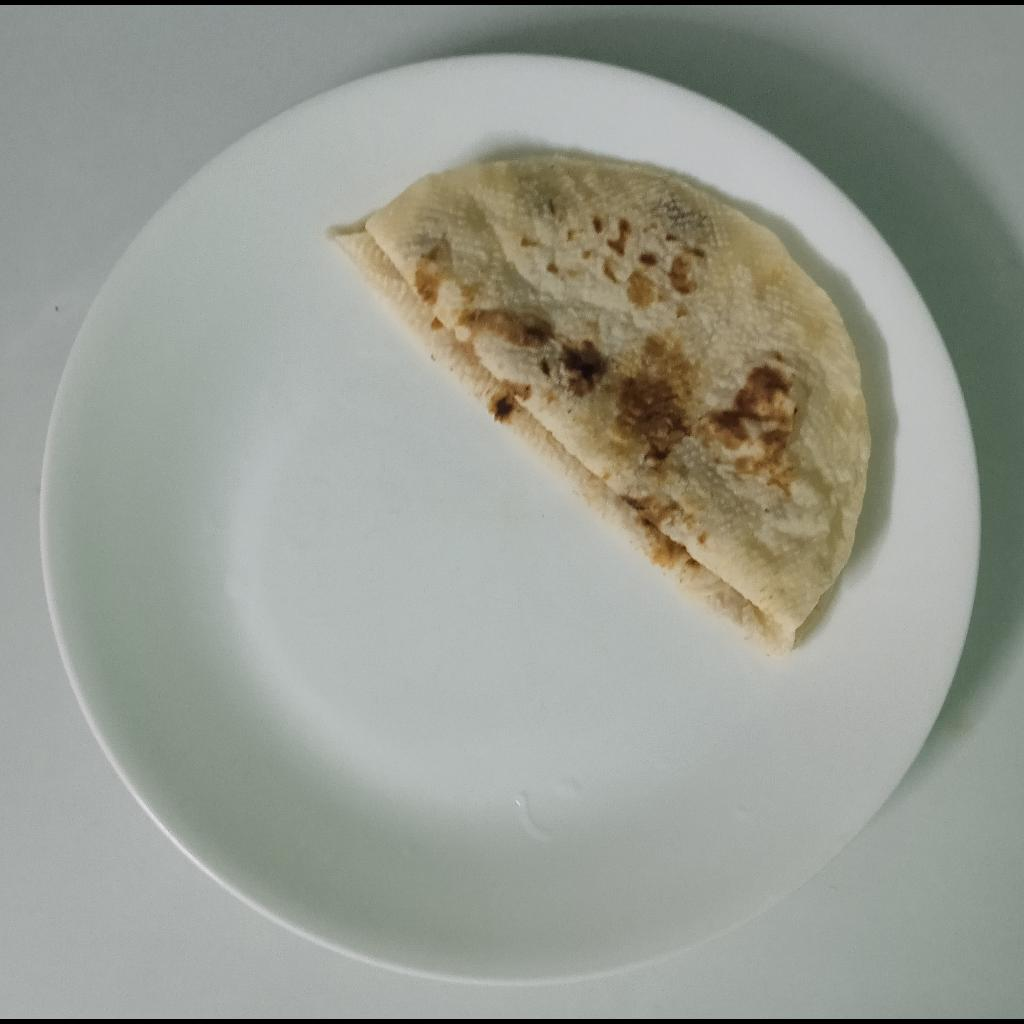ruti: (332, 154, 876, 667)
